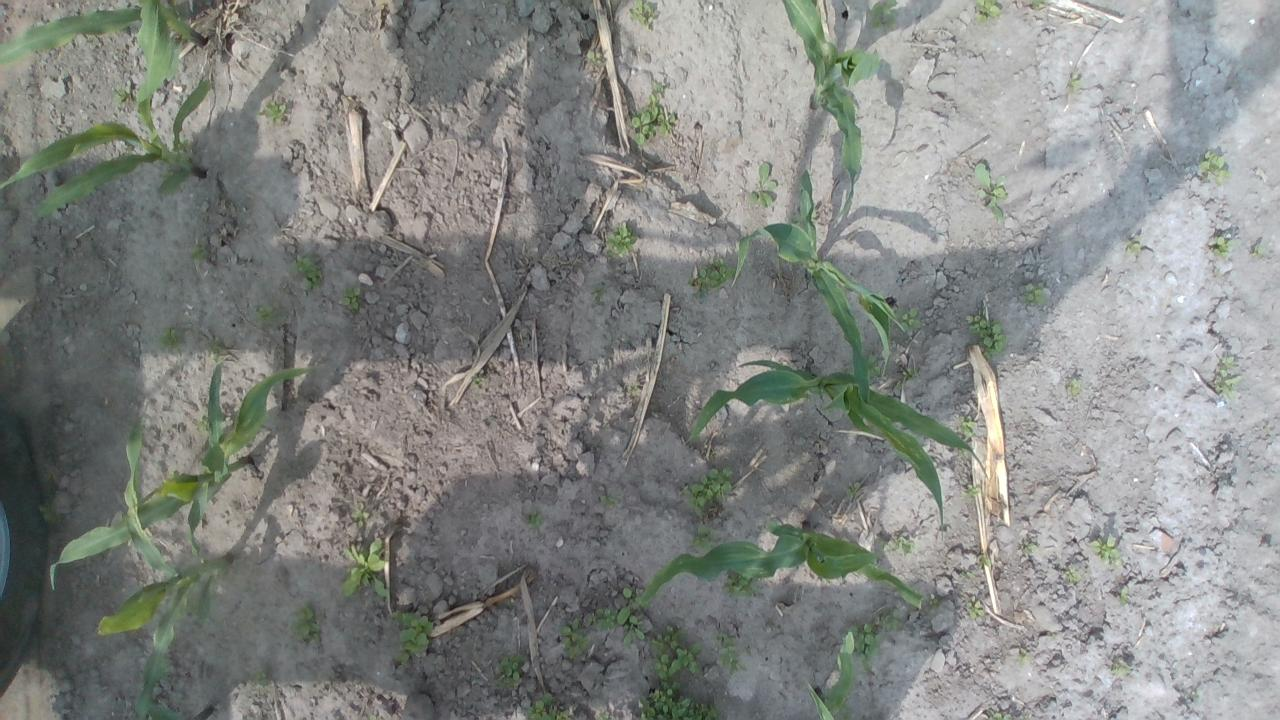Maize: (47, 357, 321, 585), (685, 359, 981, 533), (0, 0, 217, 216), (731, 174, 911, 432), (96, 409, 234, 720), (638, 520, 926, 612), (784, 0, 882, 215), (0, 0, 210, 49), (802, 627, 855, 720), (134, 698, 216, 720)
Weeds: (846, 605, 904, 676), (637, 678, 723, 720), (631, 81, 678, 146), (340, 537, 390, 597), (648, 623, 700, 680), (682, 466, 734, 521), (587, 607, 645, 647), (392, 610, 434, 662), (974, 161, 1008, 224), (966, 310, 1007, 360), (687, 257, 734, 298), (711, 632, 747, 676), (749, 160, 777, 209), (605, 221, 638, 262), (290, 600, 320, 644), (560, 618, 590, 660), (722, 566, 759, 600), (292, 253, 324, 291), (525, 694, 569, 720), (1214, 356, 1242, 396), (497, 652, 528, 688), (1090, 534, 1122, 567), (869, 0, 900, 33), (1198, 150, 1228, 184), (616, 587, 642, 626), (690, 524, 719, 554), (155, 324, 187, 351), (628, 0, 658, 28), (972, 0, 1002, 26), (894, 306, 922, 332), (878, 536, 914, 556), (260, 101, 288, 126), (254, 302, 282, 324), (207, 336, 229, 363), (350, 501, 370, 530), (1021, 282, 1046, 305), (1212, 235, 1234, 260), (1108, 657, 1132, 678), (1064, 68, 1082, 96), (341, 286, 362, 310), (250, 666, 270, 690), (113, 83, 132, 107), (525, 508, 544, 532), (865, 354, 880, 384), (958, 414, 977, 437), (966, 596, 984, 620), (189, 242, 210, 262), (1064, 564, 1084, 582), (38, 503, 58, 521), (1066, 378, 1084, 397), (1016, 648, 1034, 666), (590, 284, 606, 304), (833, 705, 854, 720), (193, 415, 208, 436), (986, 709, 1014, 720), (1124, 238, 1142, 255), (160, 162, 177, 180), (1120, 584, 1132, 608), (1020, 540, 1038, 556), (845, 481, 861, 498), (587, 50, 604, 66), (600, 492, 616, 508), (902, 368, 921, 380), (965, 484, 980, 499), (928, 592, 939, 612), (626, 383, 640, 398), (1251, 244, 1264, 260), (472, 373, 484, 388), (977, 554, 991, 566), (1031, 0, 1047, 10), (597, 712, 617, 720), (180, 138, 192, 151), (958, 447, 971, 458), (790, 214, 801, 226), (1213, 267, 1223, 280), (164, 470, 176, 480), (1046, 630, 1058, 638), (1192, 690, 1200, 702), (966, 570, 976, 579), (90, 33, 100, 42), (896, 382, 902, 390), (746, 646, 752, 654)
